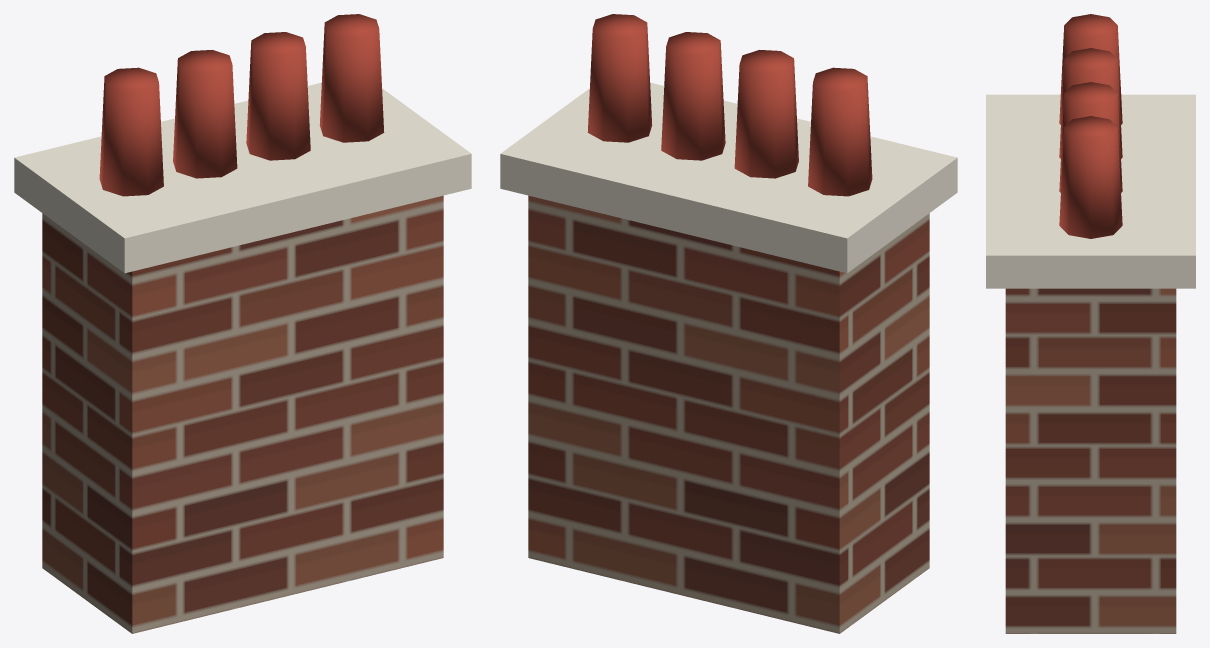
File: ct_chimney.glb
The picture shows the model from 3 angles, left to right: view 1: azimuth 30°, elevation 25°; view 2: azimuth 150°, elevation 25°; view 3: azimuth 270°, elevation 25°; orthographic projection. The views are drawn at different scales.
Parts seen in each view (by area): view 1: city_ct_chimney; view 2: city_ct_chimney; view 3: city_ct_chimney.
Part boxes in pixels (box(x1,y1,x2,y2)): city_ct_chimney: box(14, 14, 471, 633); city_ct_chimney: box(500, 14, 957, 633); city_ct_chimney: box(986, 14, 1195, 633).
Size of the model in its own units: 1.56 by 2.19 by 0.86.
2 materials, 2 textured.
